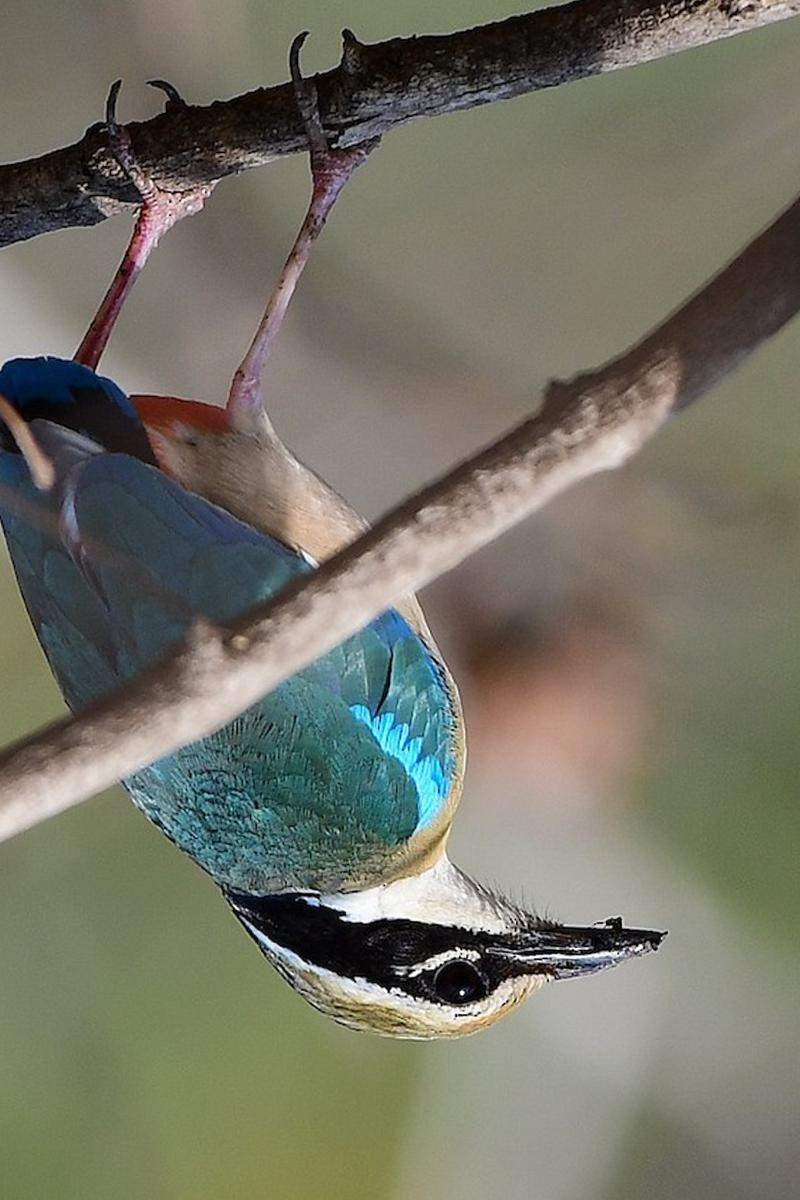pitta: (1, 108, 741, 1072)
